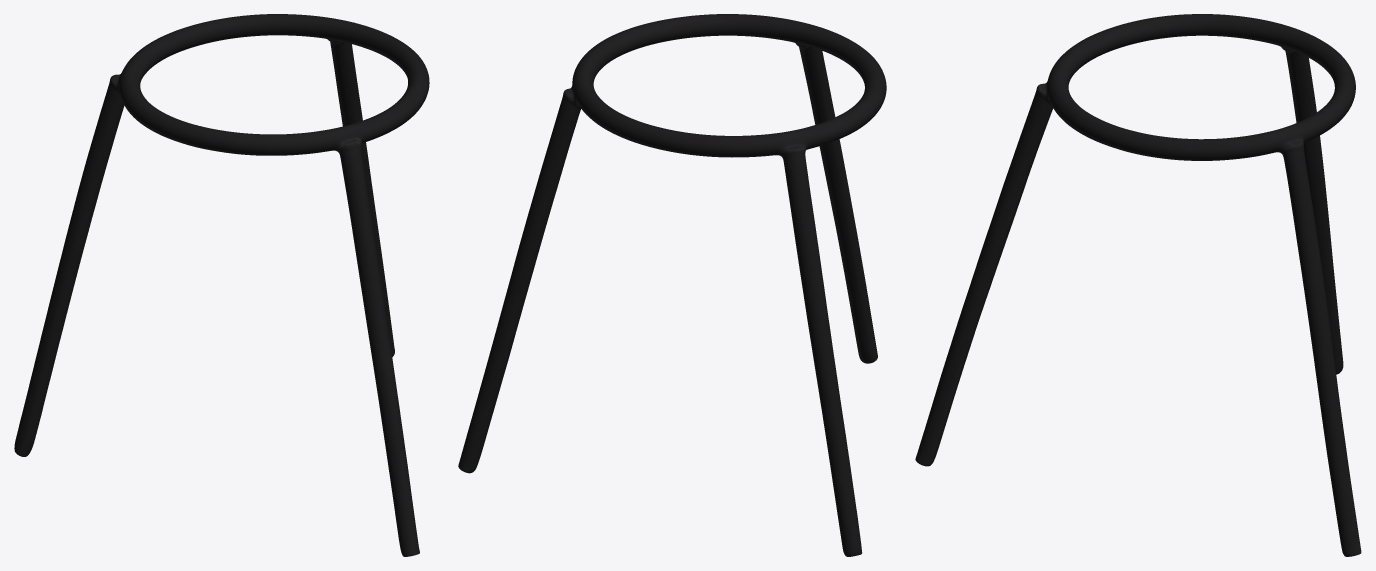
The model's file is tripod.glb.
3 renders of one model, left to right at view 1: azimuth 30°, elevation 25°; view 2: azimuth 150°, elevation 25°; view 3: azimuth 270°, elevation 25°, orthographic.
Visible parts, largest first — view 1: node_0; view 2: node_0; view 3: node_0.
Boxes of the visible parts, x1,y1,x2,y2 form: node_0: (14,14,429,556); node_0: (458,14,886,556); node_0: (915,14,1361,556).
Size of the model in its own units: 0.7222 by 0.681 by 0.7099.
Materials: 1 (1 with a texture image).
